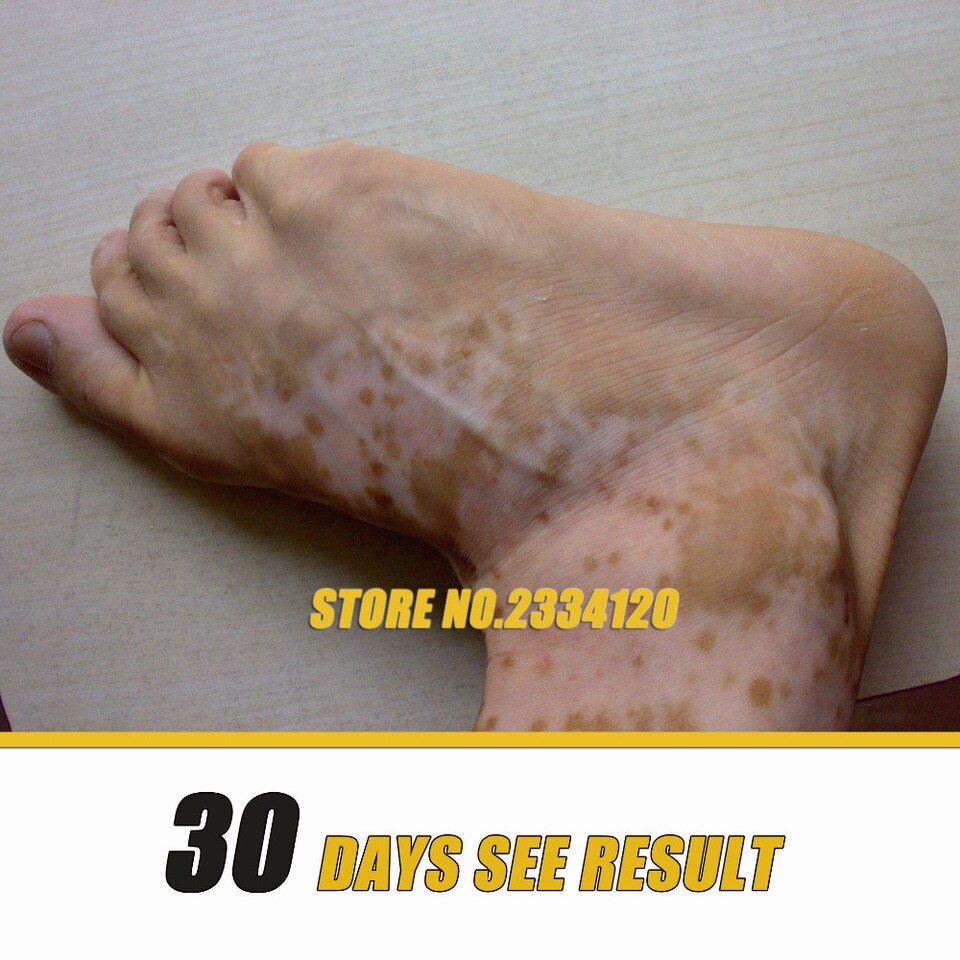vitiligo: (249, 270, 769, 625)
